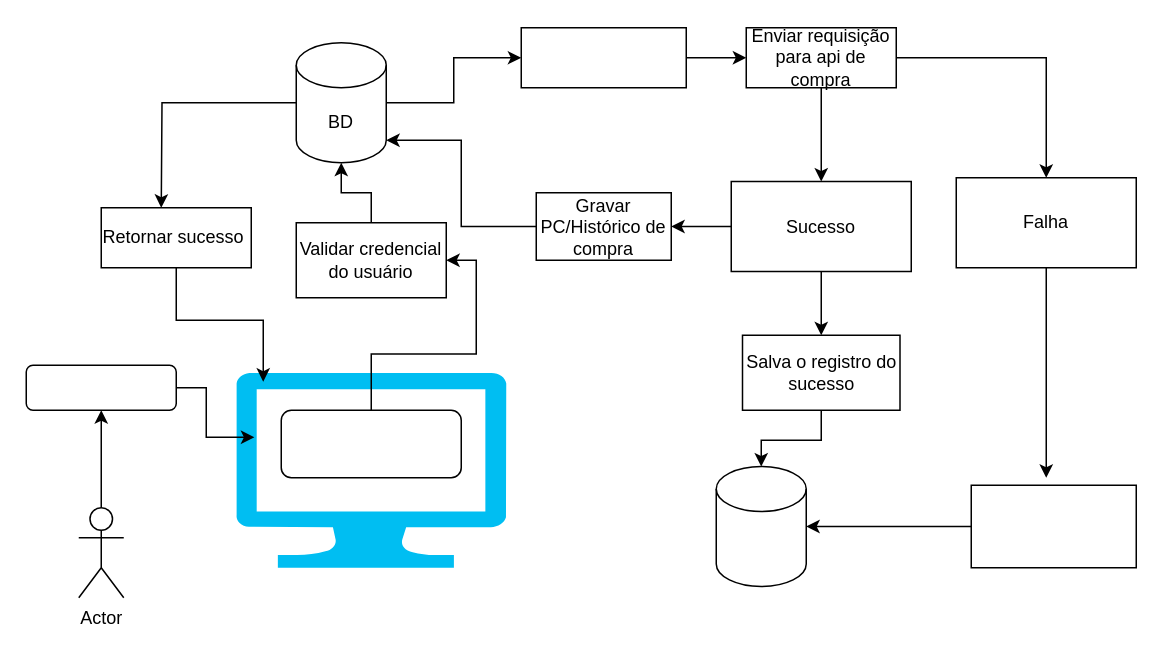
This 1163x656 diagram has some shape labels left out. Each missing label, with the centre of its shape:
Aplicação web: the point at 370,443
Inserir credencial do usuário: the point at 100,387
LOGS: the point at 760,525
Salva o registro da falhas: the point at 1053,526
Validar dado bancário: the point at 603,57
